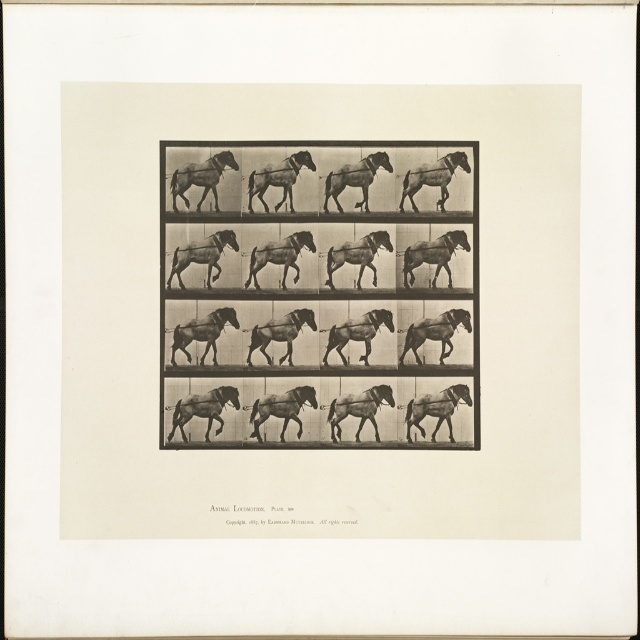Horse: (246, 150, 317, 214), (246, 230, 317, 294), (169, 149, 239, 213), (323, 150, 393, 214), (401, 307, 473, 369), (325, 227, 394, 291), (401, 153, 471, 215), (171, 308, 241, 369), (247, 308, 318, 368), (168, 385, 241, 443), (168, 231, 242, 288), (402, 385, 472, 445), (326, 310, 396, 368), (250, 387, 317, 445), (404, 231, 472, 287), (329, 386, 393, 440)
